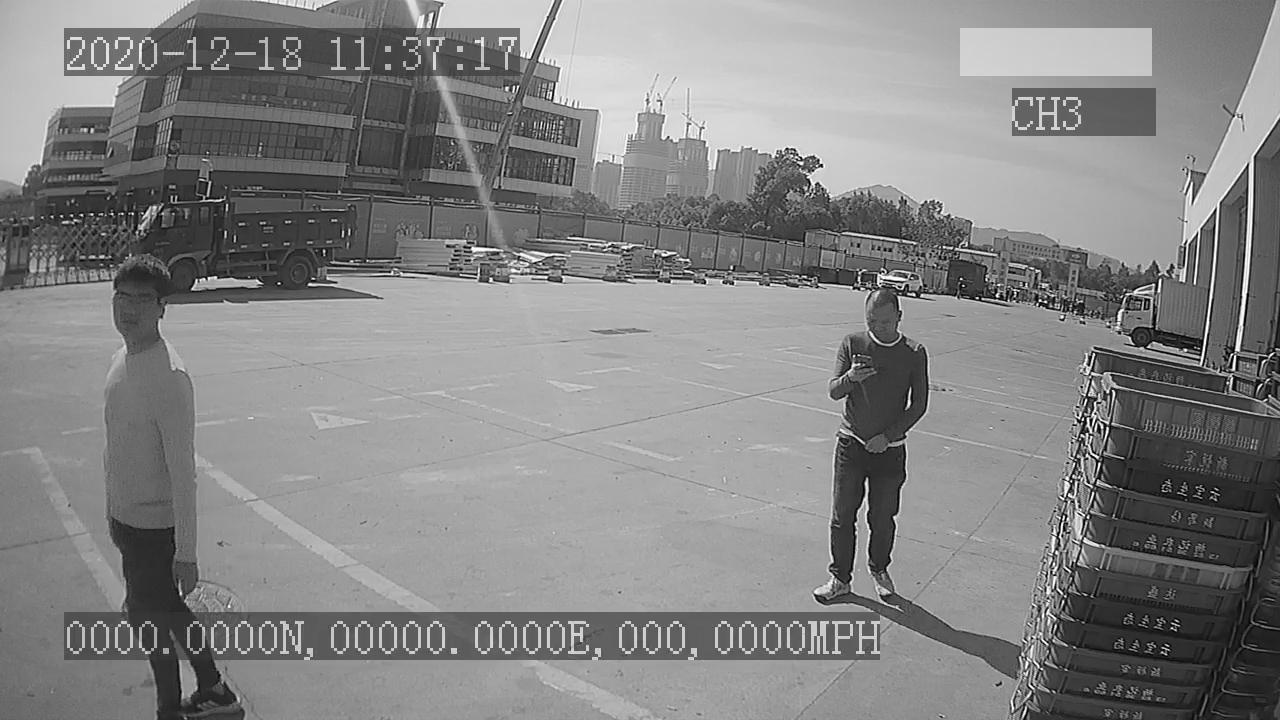person: (809, 286, 930, 605)
